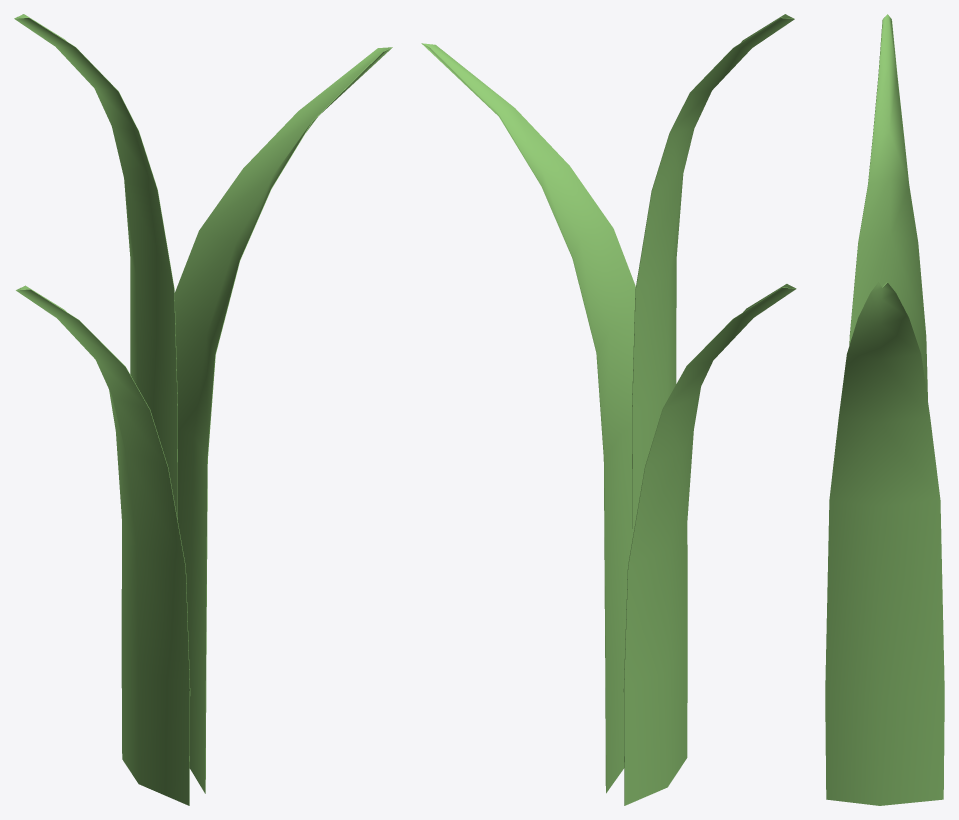
The model's file is Long leaves.fbx.
The picture shows the model from 3 angles, left to right: view 1: azimuth 30°, elevation 25°; view 2: azimuth 150°, elevation 25°; view 3: azimuth 270°, elevation 25°; orthographic projection. The views are drawn at different scales.
Parts seen in each view (by area): view 1: Long_leaves; view 2: Long_leaves; view 3: Long_leaves.
Boxes of the visible parts, x1,y1,x2,y2 form: Long_leaves: [14, 14, 392, 805]; Long_leaves: [421, 14, 796, 805]; Long_leaves: [825, 14, 944, 805].
Bounding box in the file's own units: 14.28 × 28.93 × 4.34.
